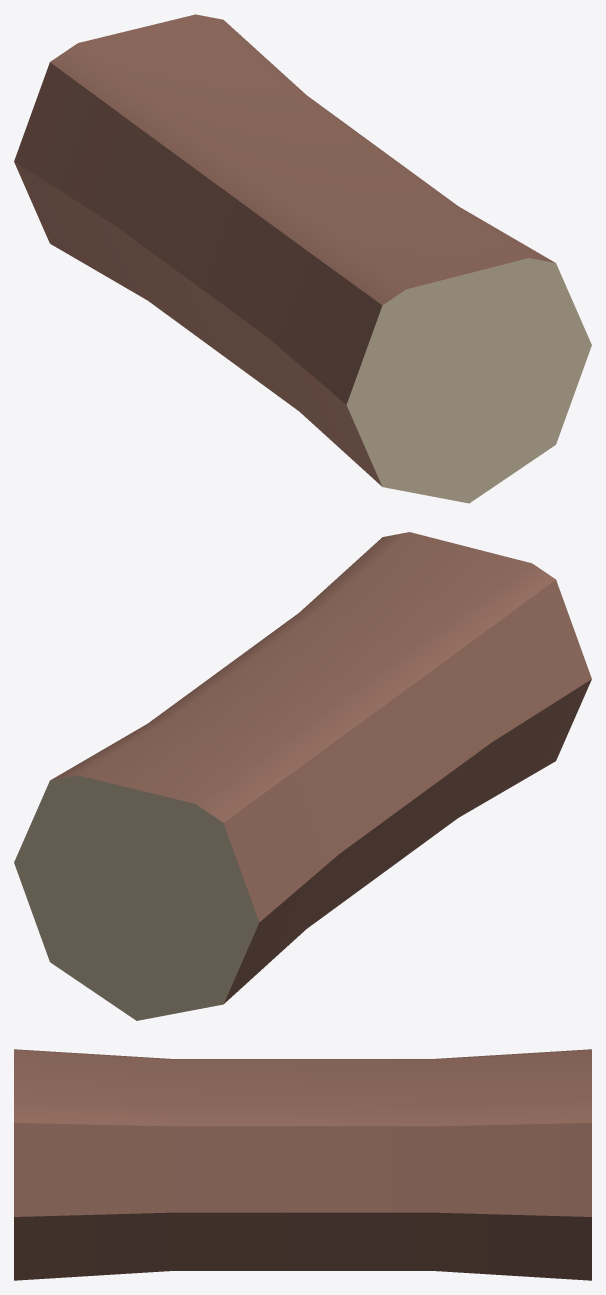
File: SM_Wood_Chopped_Block_01.fbx
3 renders of one model, top to bottom at view 1: azimuth 30°, elevation 25°; view 2: azimuth 150°, elevation 25°; view 3: azimuth 270°, elevation 25°, orthographic. The views are drawn at different scales.
Visible parts, largest first — view 1: Wood_Chopped_Block_01; view 2: Wood_Chopped_Block_01; view 3: Wood_Chopped_Block_01.
Boxes of the visible parts, left/top/right/bottom form: Wood_Chopped_Block_01: left=14, top=14, right=591, bottom=503; Wood_Chopped_Block_01: left=14, top=532, right=591, bottom=1020; Wood_Chopped_Block_01: left=14, top=1049, right=591, bottom=1280.
Size of the model in its own units: 9.71 by 8.75 by 22.78.
